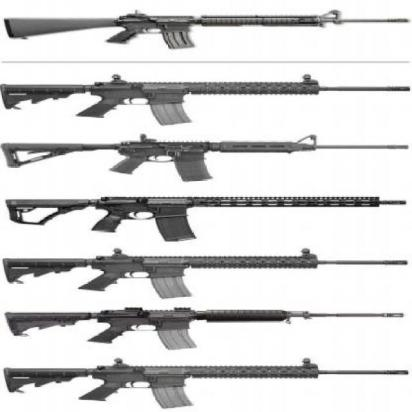Gun: (4, 68, 412, 123), (1, 192, 409, 244), (1, 132, 412, 182), (4, 251, 409, 299), (4, 3, 408, 51), (4, 360, 408, 406), (1, 310, 410, 349)
